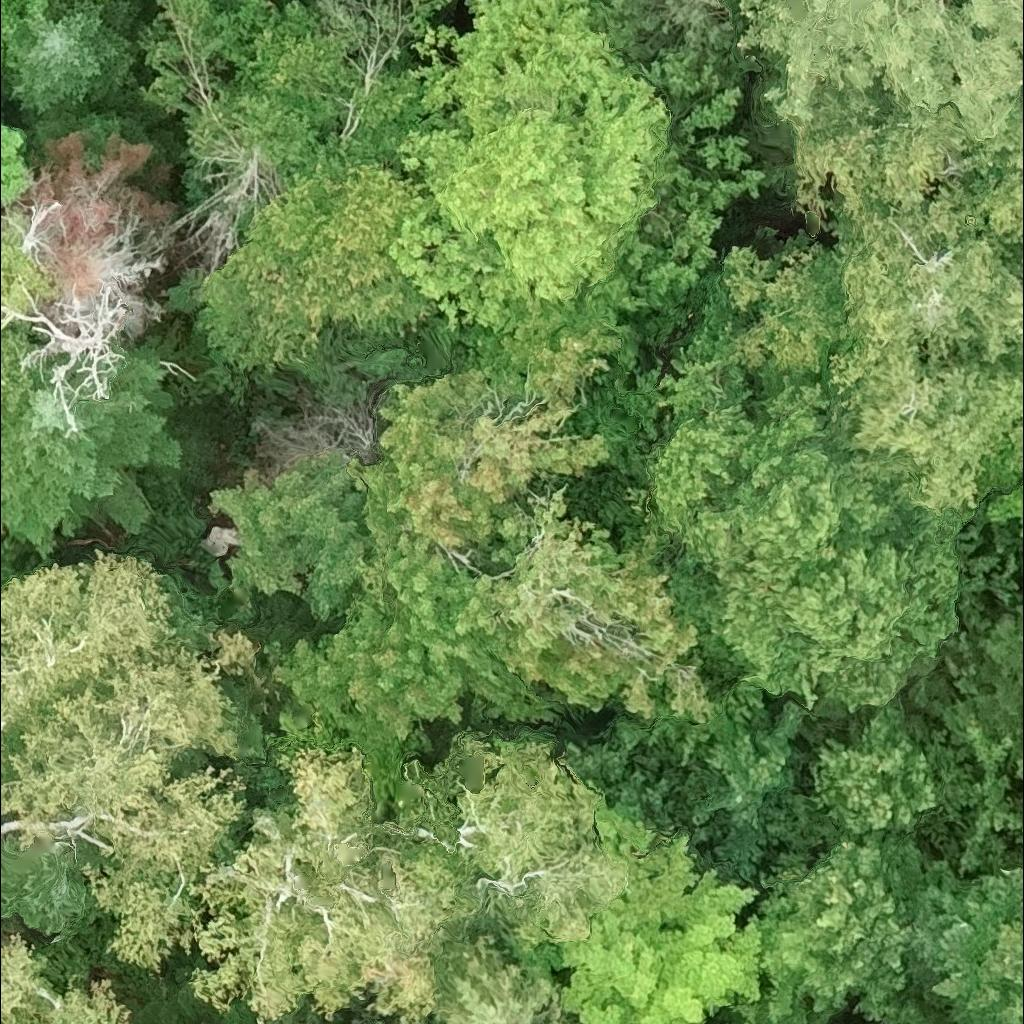crown: (266, 326, 713, 758), (646, 289, 965, 711), (715, 88, 1023, 517), (0, 552, 264, 970), (387, 0, 685, 335), (189, 742, 492, 1023), (197, 162, 433, 381), (435, 731, 625, 984), (556, 805, 775, 1023), (719, 0, 1023, 140), (0, 200, 162, 440), (0, 352, 182, 555), (752, 830, 927, 1023), (210, 453, 374, 619), (235, 6, 356, 185), (144, 0, 274, 166), (809, 690, 945, 840), (415, 927, 578, 1023), (9, 0, 136, 113), (0, 936, 126, 1023), (348, 76, 425, 166), (977, 602, 1023, 743), (0, 324, 41, 421), (0, 0, 50, 77), (0, 232, 45, 308), (0, 126, 30, 204), (241, 0, 259, 2), (1021, 761, 1023, 774)
